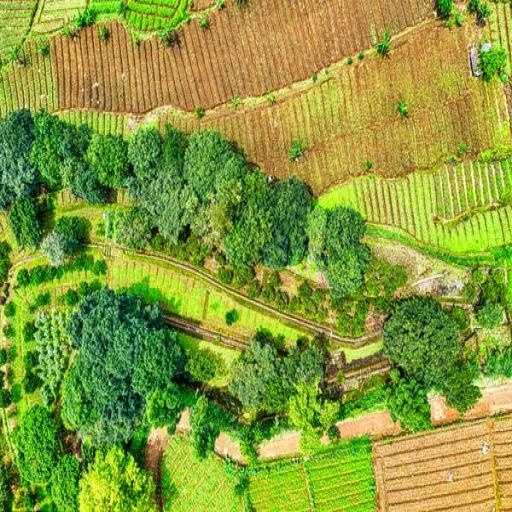tree-top: (68, 279, 154, 366), (381, 294, 457, 390), (77, 447, 155, 512), (128, 168, 189, 239), (287, 377, 340, 457), (271, 170, 311, 268), (181, 123, 230, 199), (0, 101, 34, 205), (16, 408, 57, 486), (82, 127, 126, 192), (60, 122, 96, 200), (226, 212, 268, 278), (30, 106, 62, 190), (96, 208, 146, 260), (469, 265, 506, 331), (390, 382, 434, 436), (325, 202, 364, 262), (56, 365, 88, 432), (443, 366, 479, 424), (148, 330, 188, 381), (98, 400, 142, 446), (325, 247, 367, 295), (190, 202, 232, 250), (190, 397, 218, 468), (51, 452, 82, 512), (211, 186, 249, 233), (146, 382, 183, 430), (126, 126, 160, 178), (286, 342, 322, 388), (8, 196, 38, 250), (186, 348, 224, 390), (227, 346, 282, 371), (258, 379, 292, 419), (213, 152, 249, 188), (158, 127, 185, 174), (58, 210, 86, 254), (480, 42, 510, 81), (38, 228, 67, 268), (307, 198, 325, 260), (480, 346, 512, 380)
